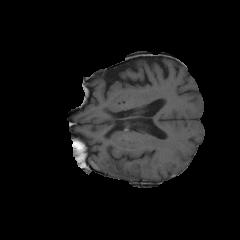glioma: (74, 142, 140, 180)
